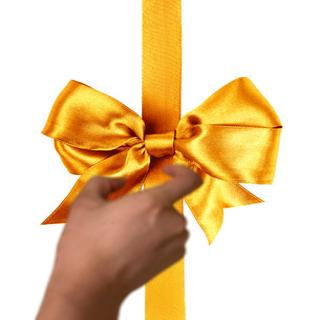HATE: (36, 156, 213, 305)
